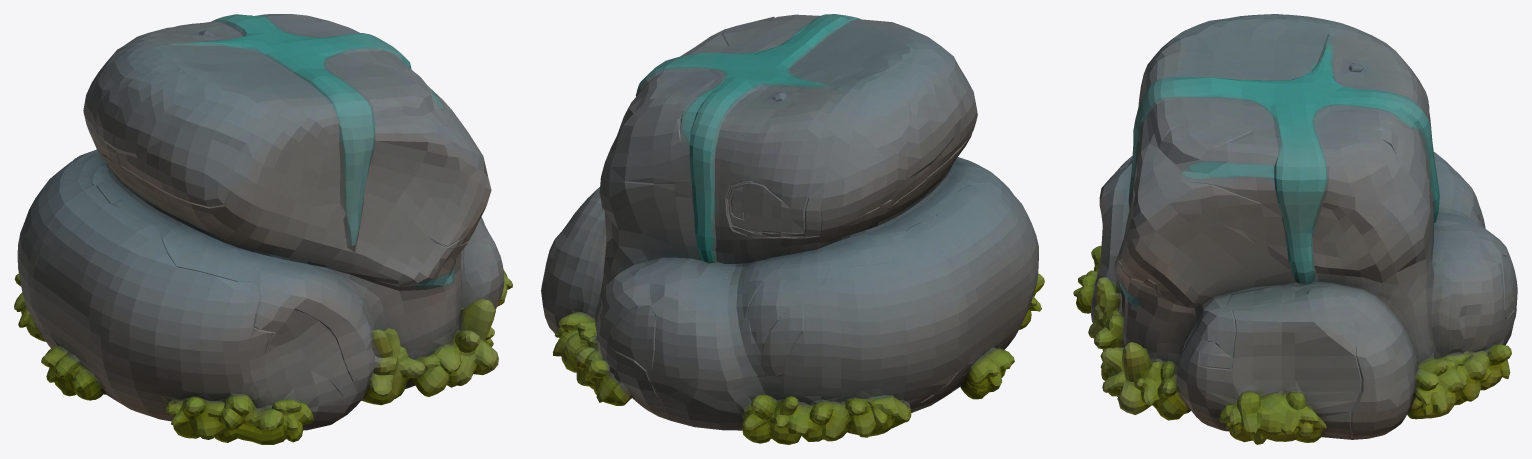
Rendered from tripo_convert_e2687d75-68f1-46c9-b5fe-d2ef2332221a.fbx.
The picture shows the model from 3 angles, left to right: view 1: azimuth 30°, elevation 25°; view 2: azimuth 150°, elevation 25°; view 3: azimuth 270°, elevation 25°; orthographic projection. The views are drawn at different scales.
Parts seen in each view (by area): view 1: tripo_node_e2687d75; view 2: tripo_node_e2687d75; view 3: tripo_node_e2687d75.
Part boxes in pixels (<box>): tripo_node_e2687d75: <box>14,14,512,444</box>; tripo_node_e2687d75: <box>541,14,1044,444</box>; tripo_node_e2687d75: <box>1073,14,1517,444</box>.
Size of the model in its own units: 0.9955 by 0.6748 by 0.9251.
Materials: 1 (1 with a texture image).
